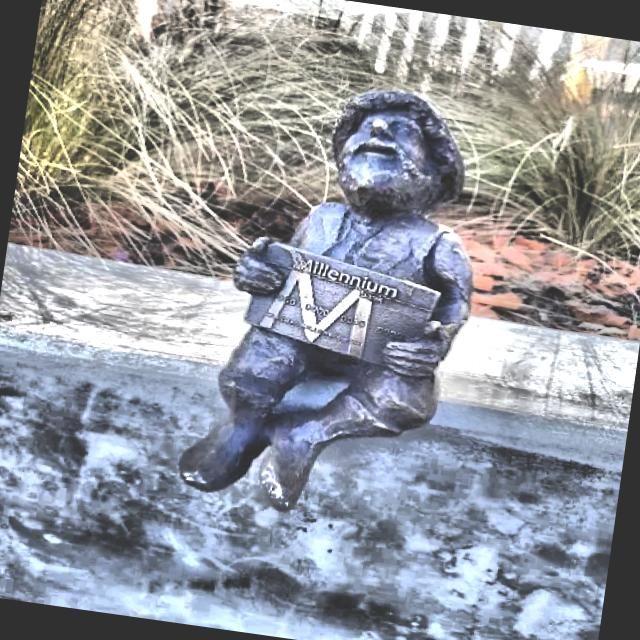Krasnal_Millenniowski: (178, 89, 474, 513)
